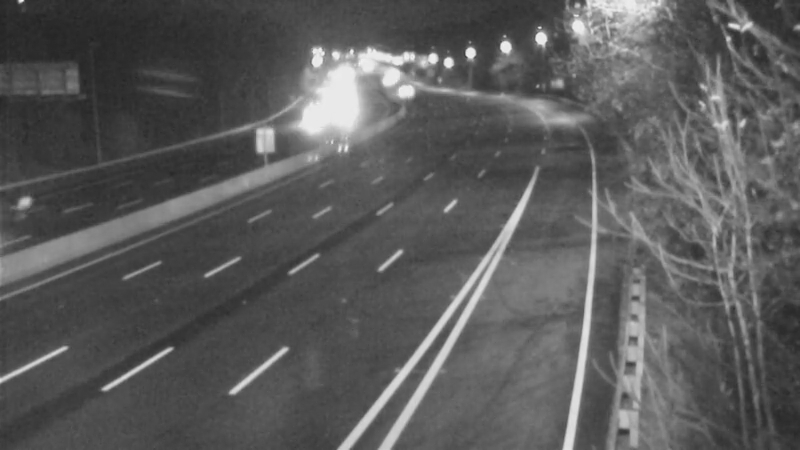vehicle: (1, 171, 70, 251), (383, 66, 433, 116)
